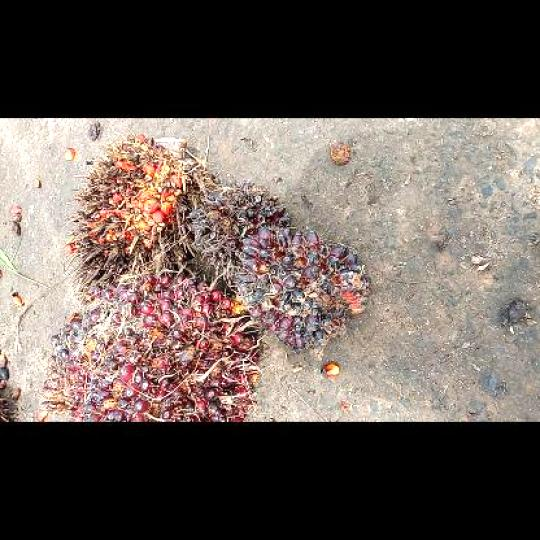masak: (38, 271, 263, 420)
terlalu masak: (60, 132, 200, 307)
